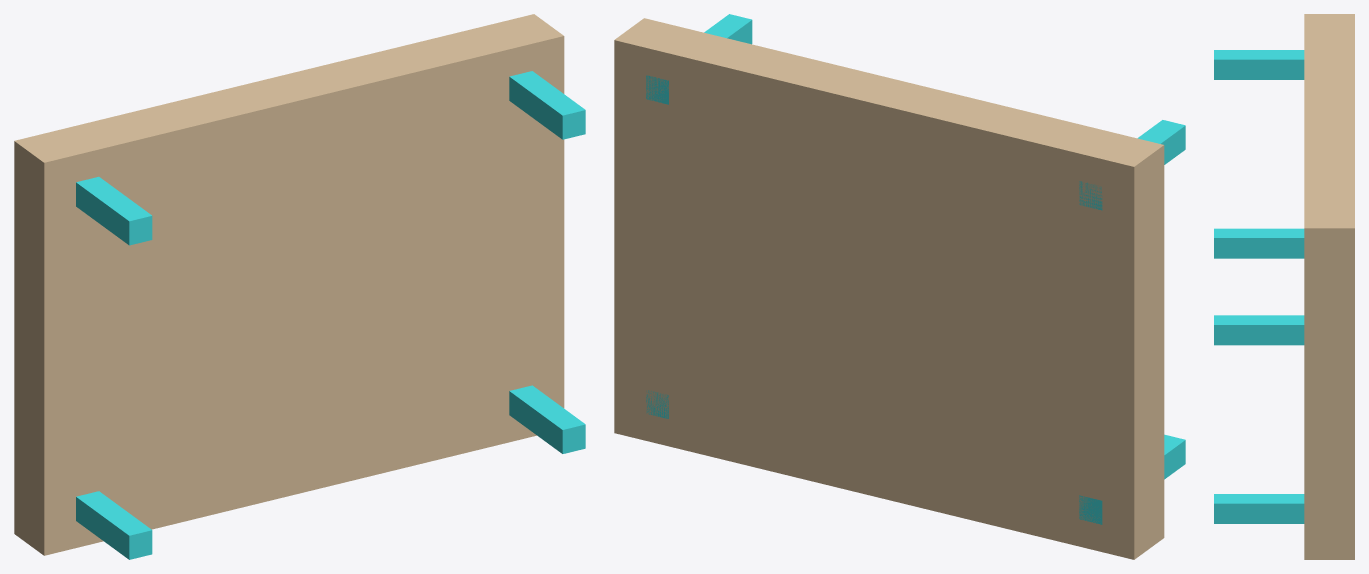
Rendered from deck-porch.glb.
The picture shows the model from 3 angles, left to right: view 1: azimuth 30°, elevation 25°; view 2: azimuth 150°, elevation 25°; view 3: azimuth 270°, elevation 25°; orthographic projection. The views are drawn at different scales.
Parts seen in each view (by area): view 1: world; view 2: world; view 3: world.
Part boxes in pixels (x1,y1,x2,y2): world: (14, 14, 585, 559); world: (614, 14, 1185, 559); world: (1214, 14, 1354, 559).
Bounding box in the file's own units: 1.8 × 1.3 × 0.5.
